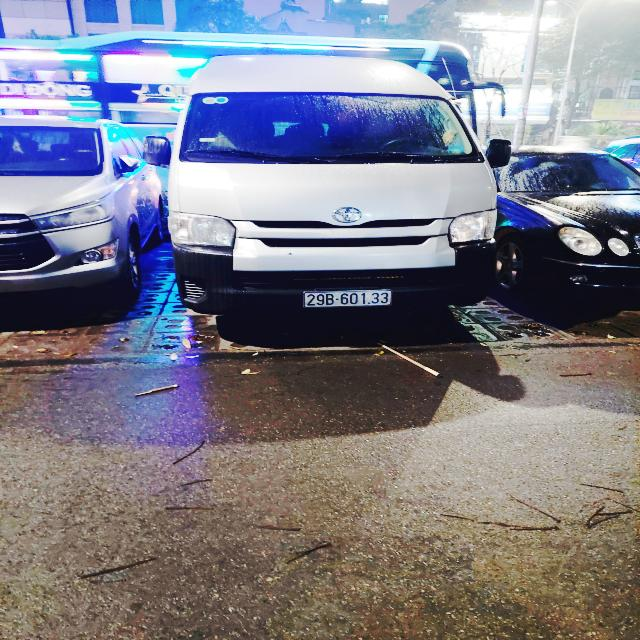license_plate: (300, 288, 397, 311)
